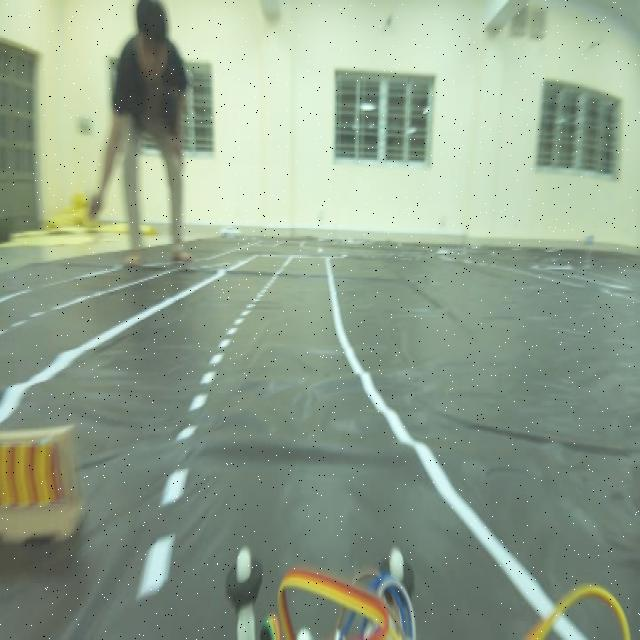roadblock: (0, 427, 84, 550)
